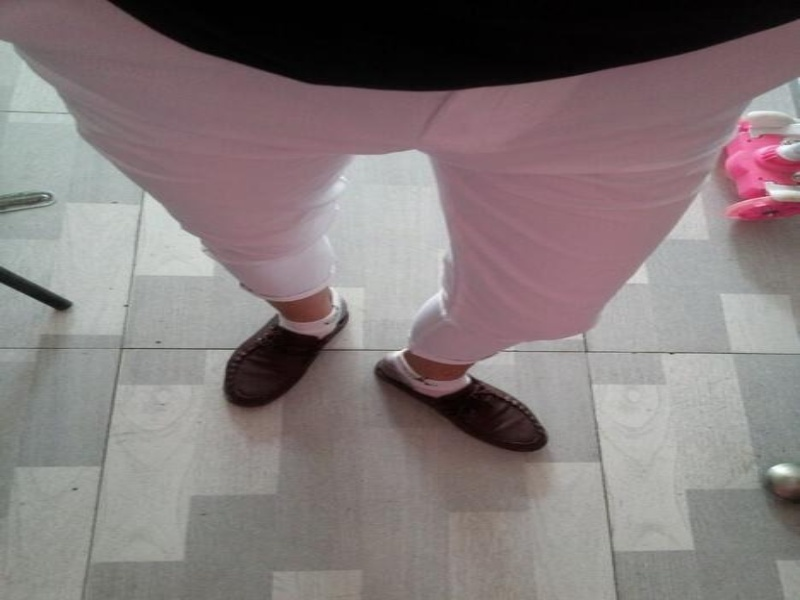trousers: (0, 0, 798, 376)
